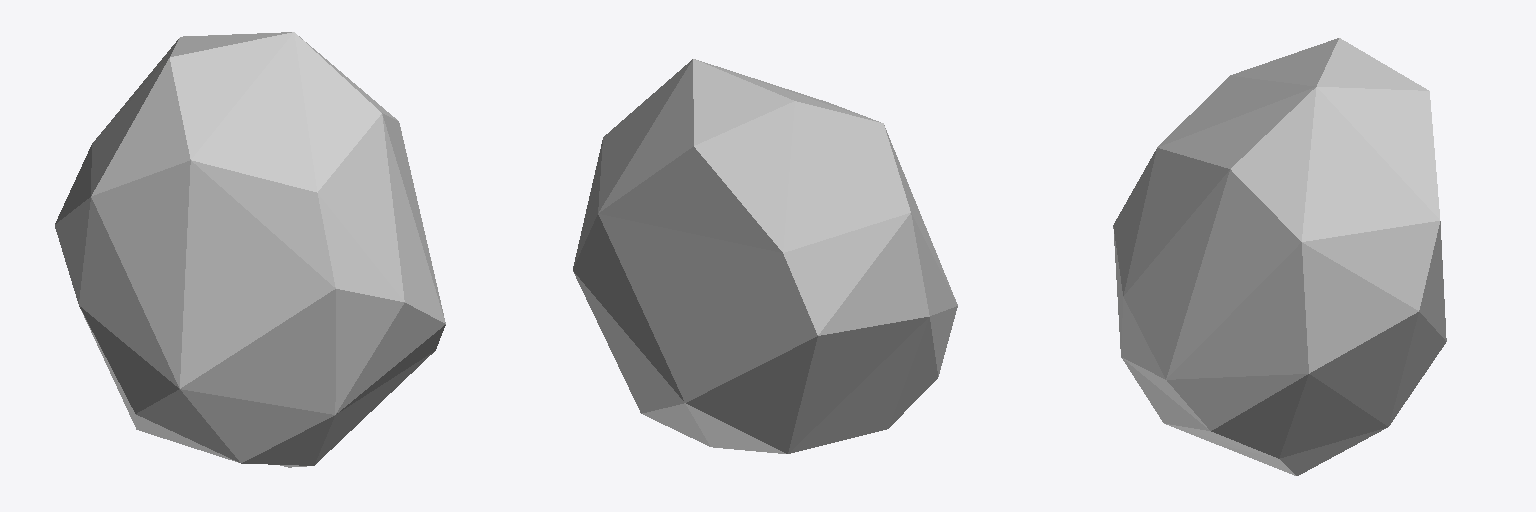
Rendered from Small Rock.obj.
3 renders of one model, left to right at view 1: azimuth 30°, elevation 25°; view 2: azimuth 150°, elevation 25°; view 3: azimuth 270°, elevation 25°, orthographic.
Parts seen in each view (by area): view 1: sekikaobj_small; view 2: sekikaobj_small; view 3: sekikaobj_small.
Boxes of the visible parts, x1=… form: sekikaobj_small: x1=55, y1=32, x2=445, y2=467; sekikaobj_small: x1=573, y1=59, x2=957, y2=453; sekikaobj_small: x1=1113, y1=38, x2=1446, y2=475.
Size of the model in its own units: 10.31 by 11.45 by 8.78.